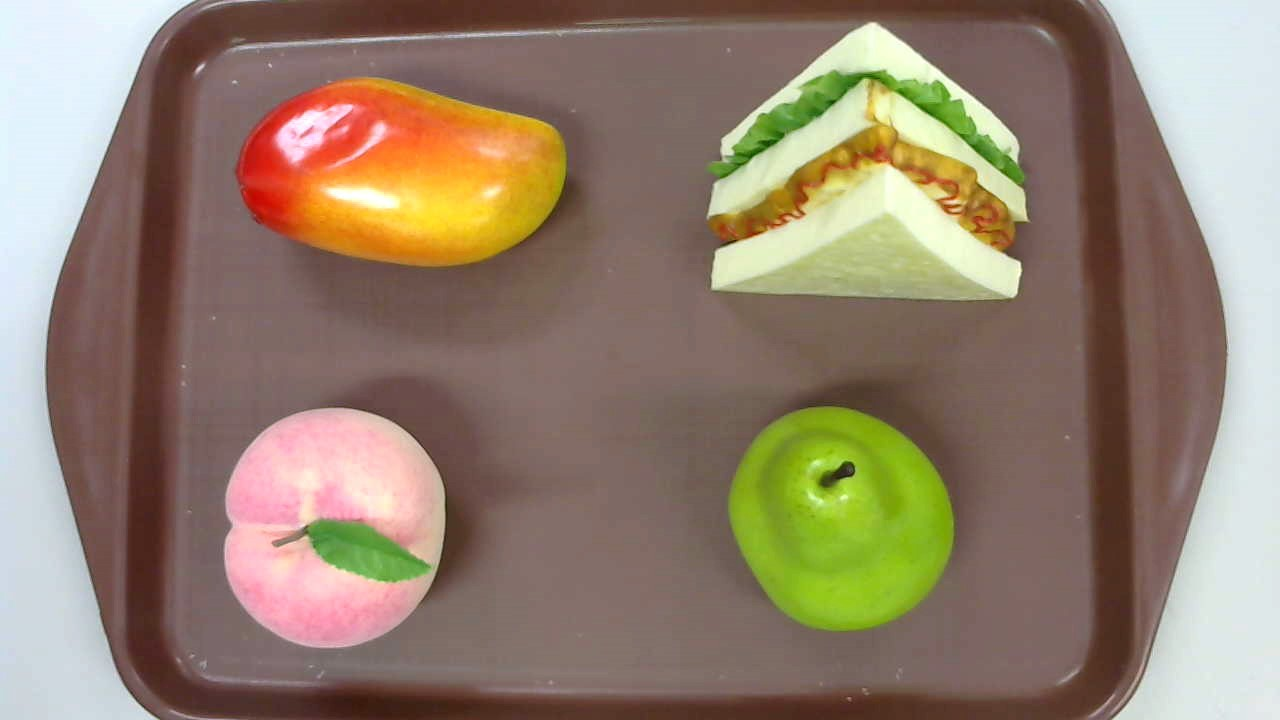green pear: (728, 406, 953, 631)
peach: (222, 405, 444, 648)
red mango: (235, 76, 565, 268)
sandwich: (703, 22, 1033, 300)
